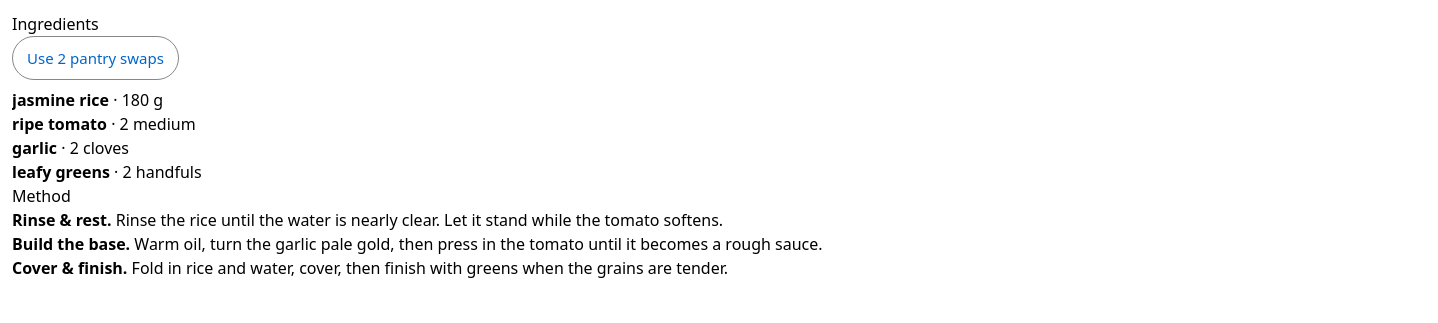
pantry swaps › marks each swapped line with what it replaces and adds the swap note to the base step
Click the button "Use 2 pantry swaps" at (95,58), box [12,36,179,80]
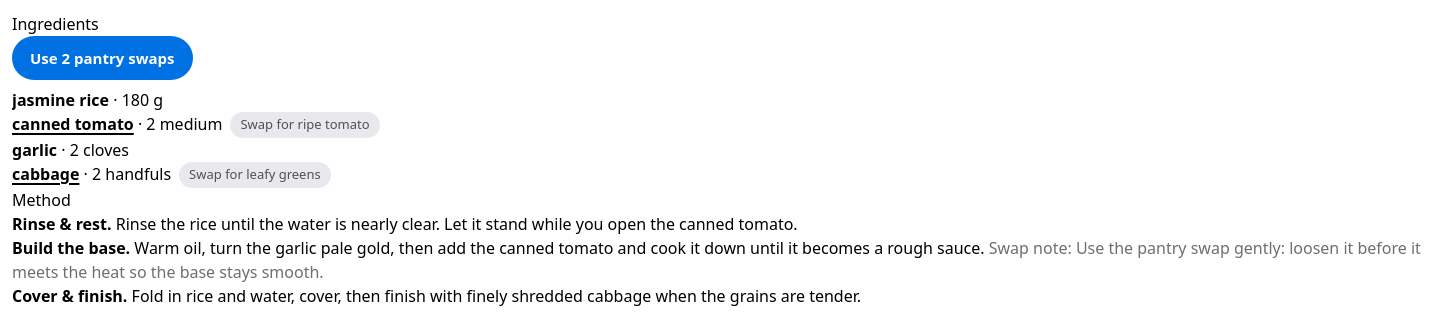
Check: the text "Use the pantry swap gently: loosen it before it meets the heat so the base stays smooth." is shown, box [12,237,1421,283]
Click the button "Use 2 pantry swaps" at (102,58), box [12,36,192,80]
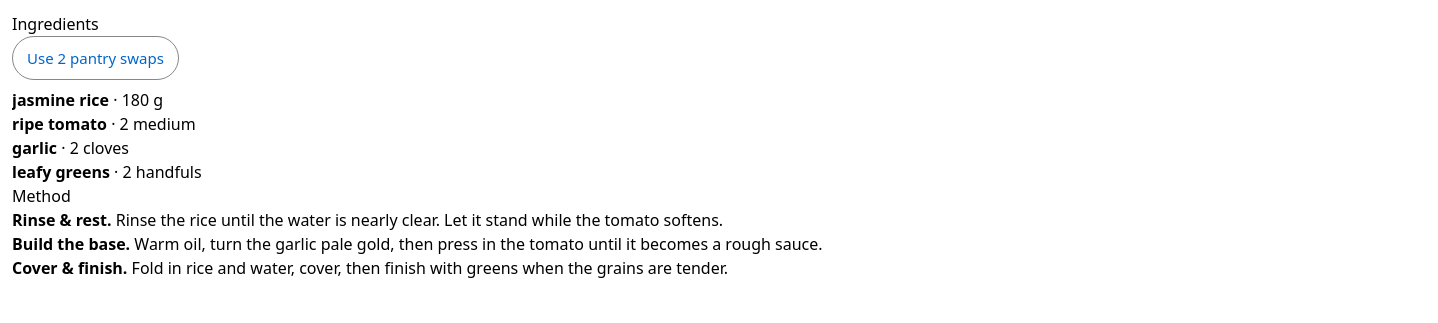
Check: the text "Use the pantry swap gently: loosen it before it meets the heat so the base stays smooth." is gone
